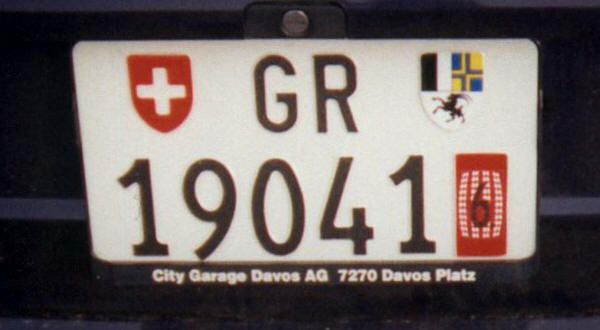license_plate: (69, 36, 539, 262)
